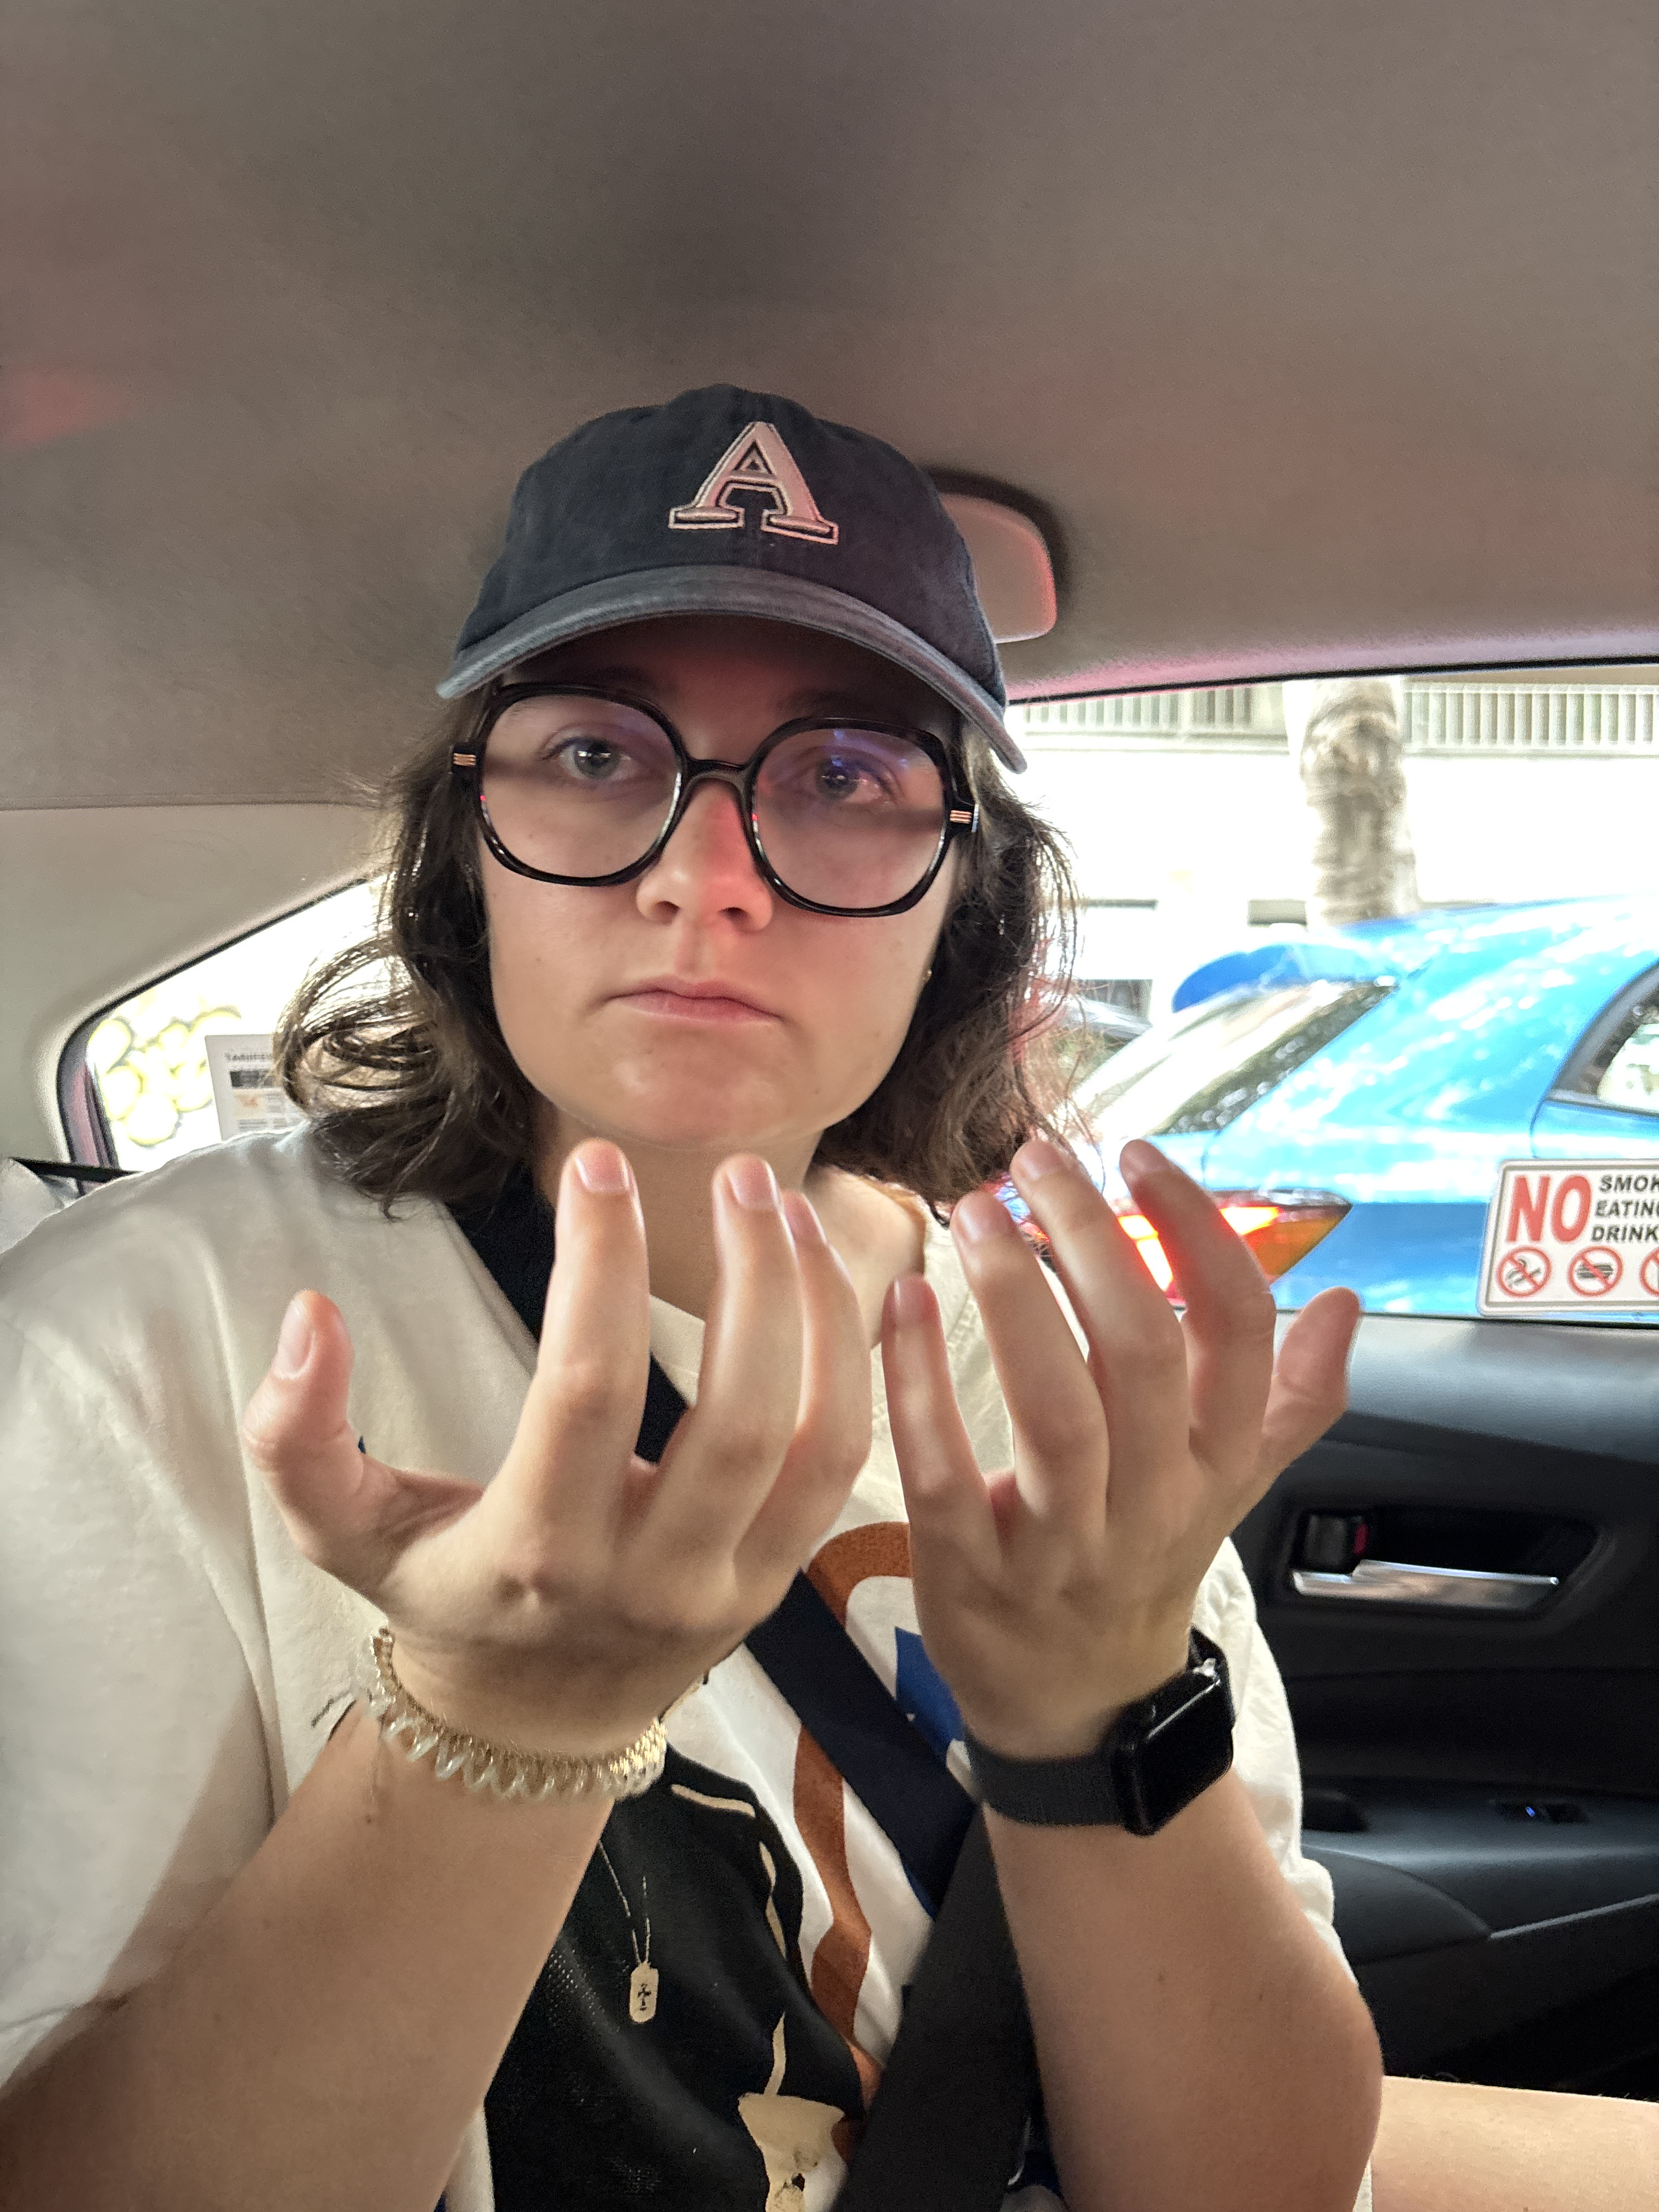group: (5, 380, 1391, 2205)
